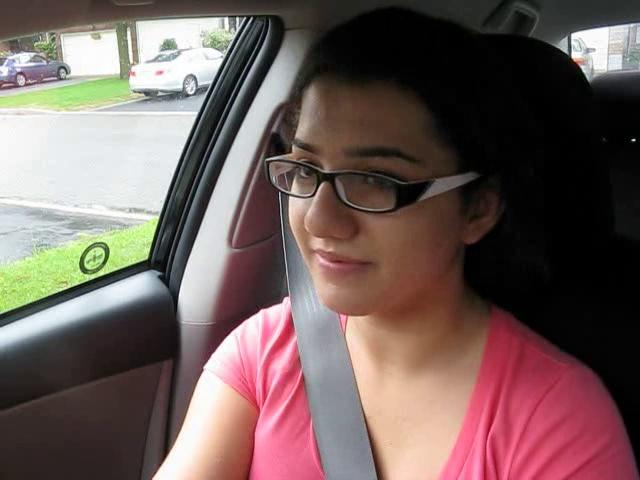no_yawn: (288, 235, 386, 290)
open_eyeL: (273, 153, 330, 197)
open_eyeR: (335, 162, 419, 212)
